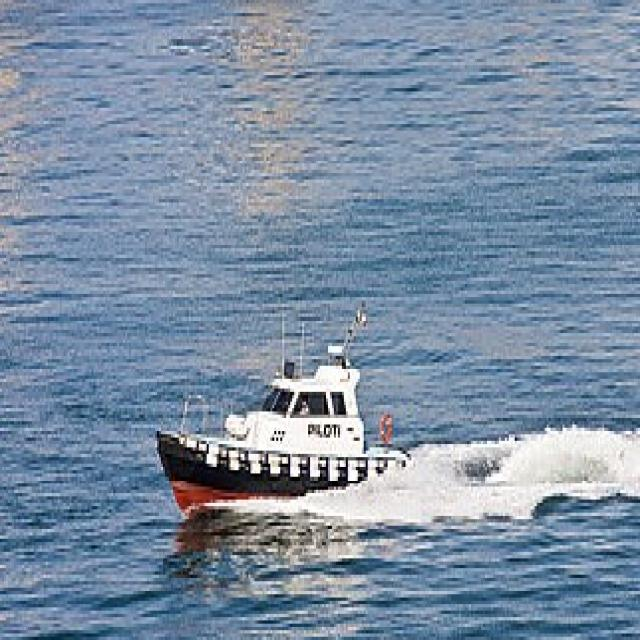houseboat: (156, 316, 418, 520)
